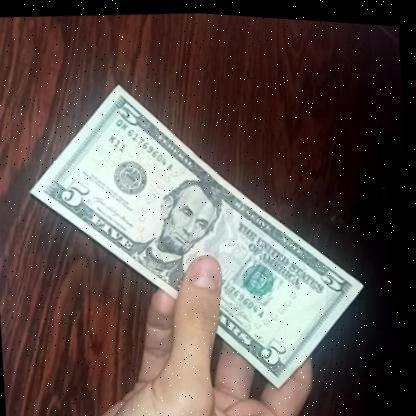five-front: (22, 56, 380, 412)
